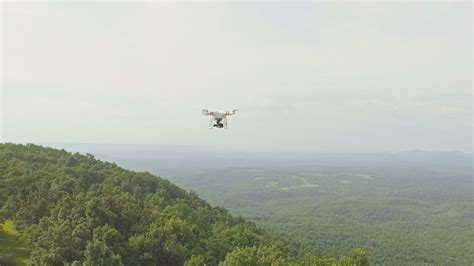drone: (197, 104, 242, 133)
